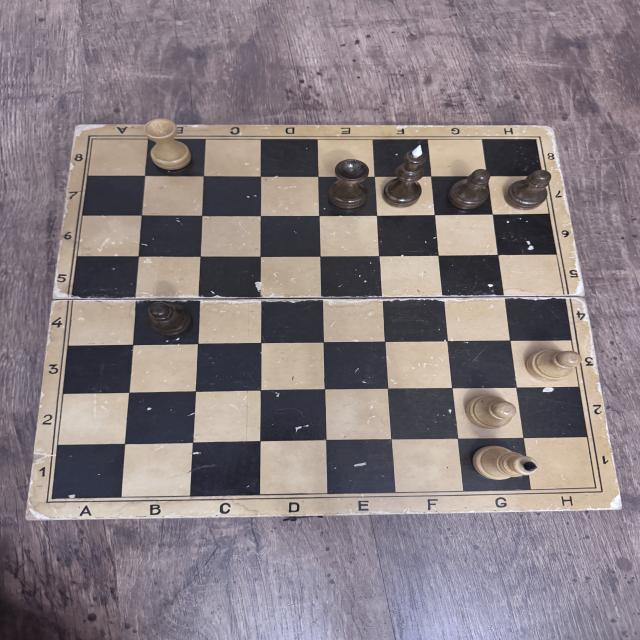black-king: (381, 143, 426, 209)
black-pawn: (449, 168, 492, 211), (506, 170, 552, 209), (146, 301, 195, 337)
black-rook: (328, 158, 372, 212)
white-king: (474, 444, 539, 482)
white-pawn: (523, 348, 582, 382), (465, 394, 517, 432)
white-rook: (142, 117, 192, 169)
